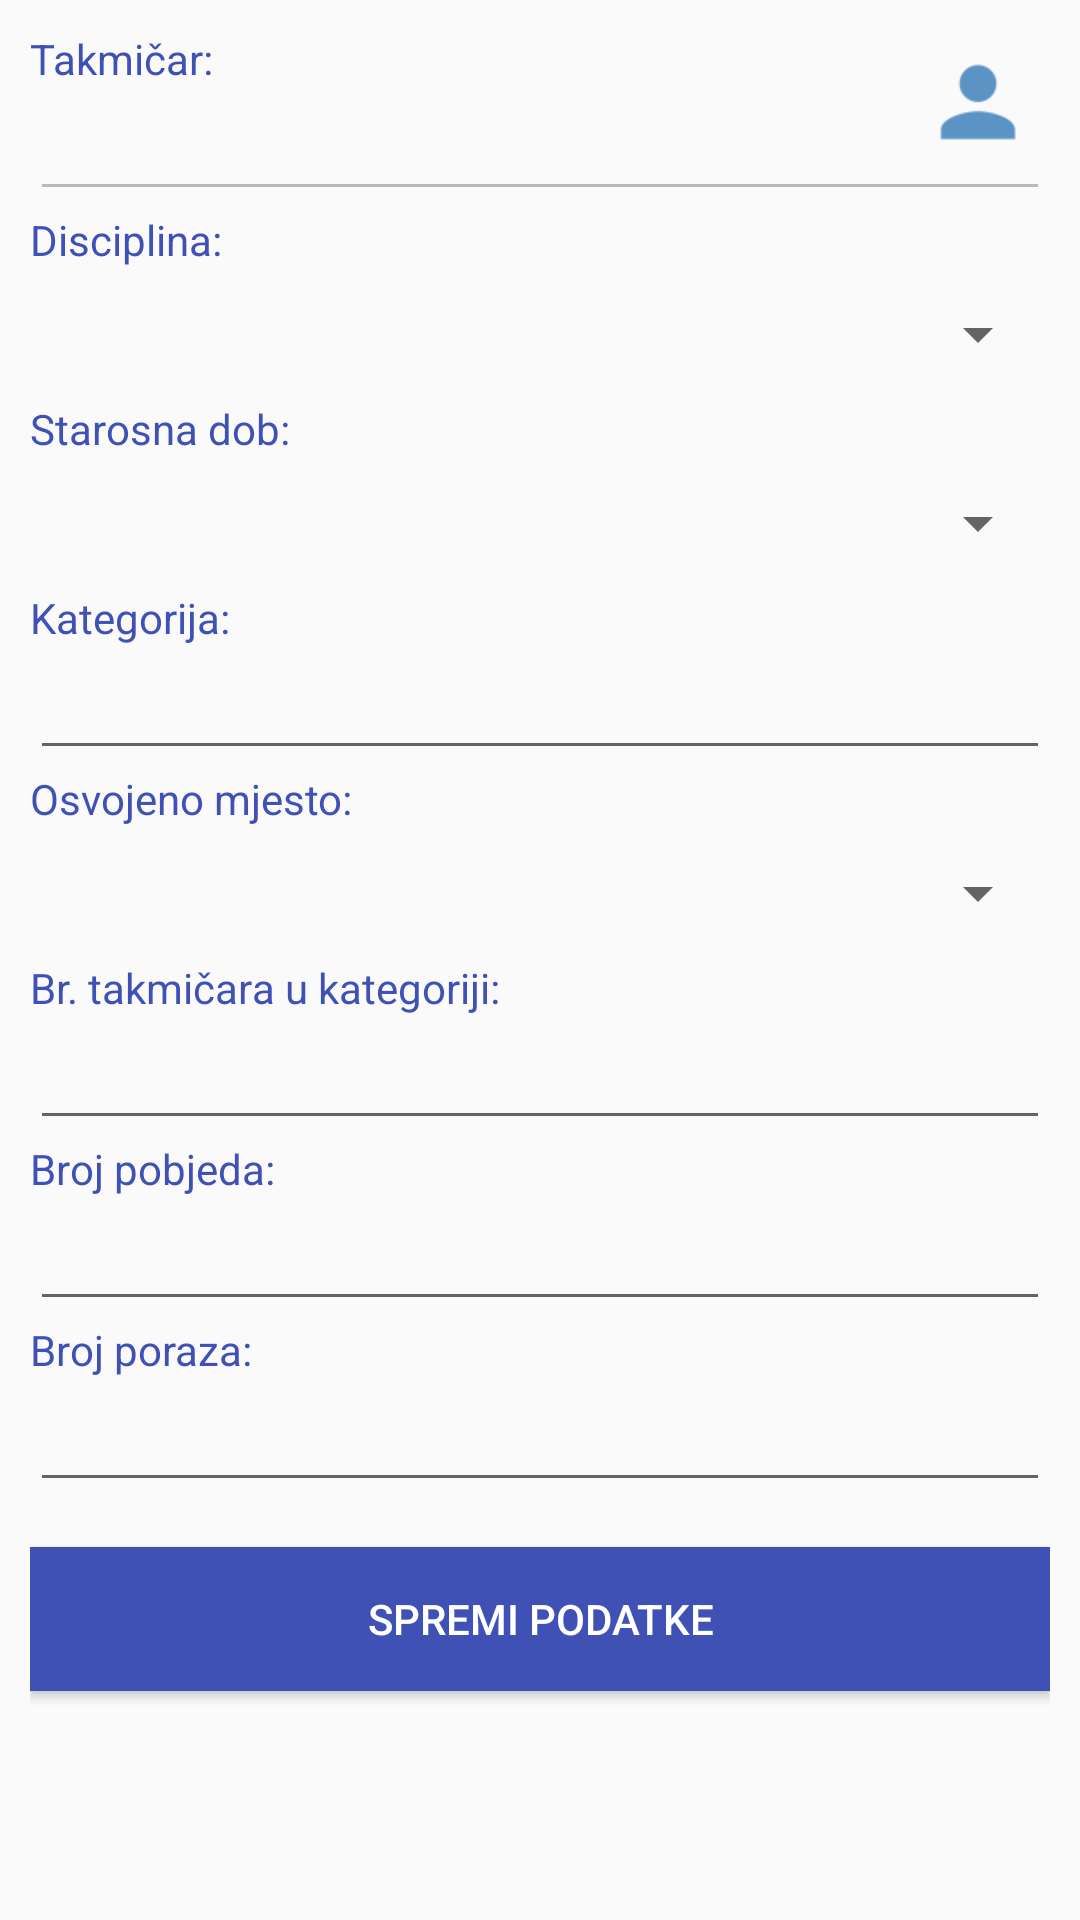

Icon click points for this 1080 × 1920 phone screenshot, format point (x, y):
user: point (978, 102)
